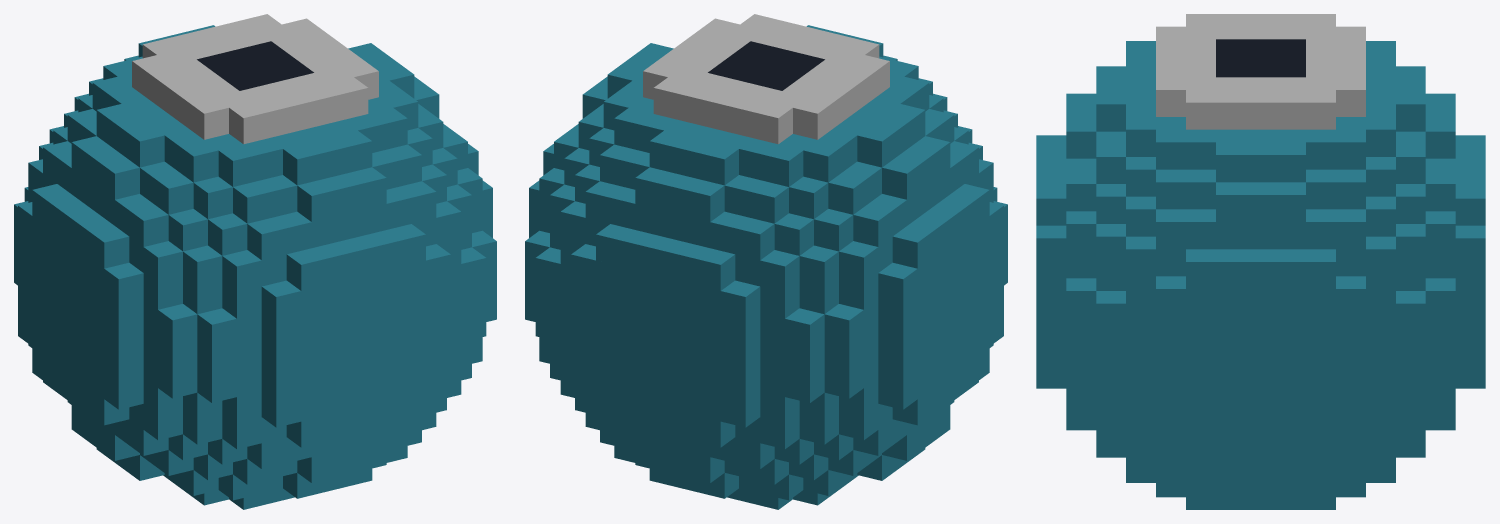
The model's file is ball_1.fbx.
The picture shows the model from 3 angles, left to right: view 1: azimuth 30°, elevation 25°; view 2: azimuth 150°, elevation 25°; view 3: azimuth 270°, elevation 25°; orthographic projection. The views are drawn at different scales.
Parts seen in each view (by area): view 1: Sphere_2; view 2: Sphere_2; view 3: Sphere_2.
Boxes of the visible parts, x1,y1,x2,y2 form: Sphere_2: [14, 14, 496, 509]; Sphere_2: [525, 14, 1007, 509]; Sphere_2: [1036, 14, 1485, 509].
Size of the model in its own units: 15 by 15 by 15.
